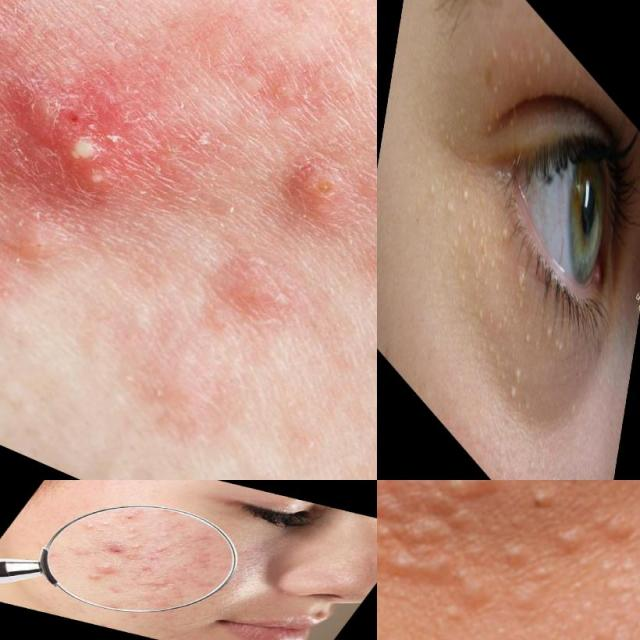7: (407, 137, 594, 480), (508, 10, 552, 108)
8: (262, 158, 345, 239), (76, 568, 108, 586)
blackheads: (377, 480, 581, 625), (0, 54, 151, 228), (132, 578, 170, 598), (142, 544, 170, 562), (96, 543, 125, 556)
